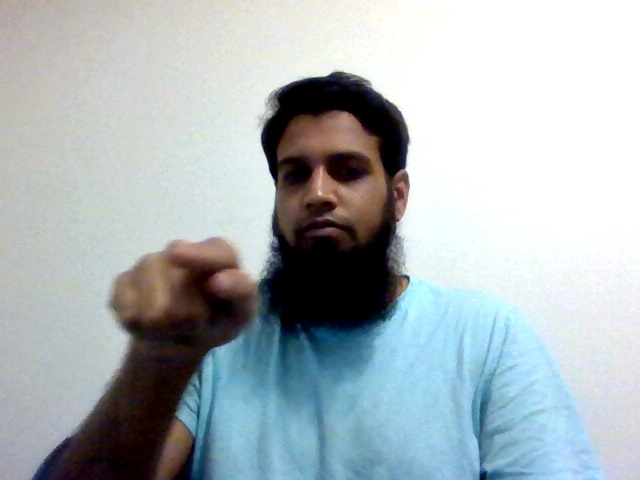you: (107, 234, 259, 350)
